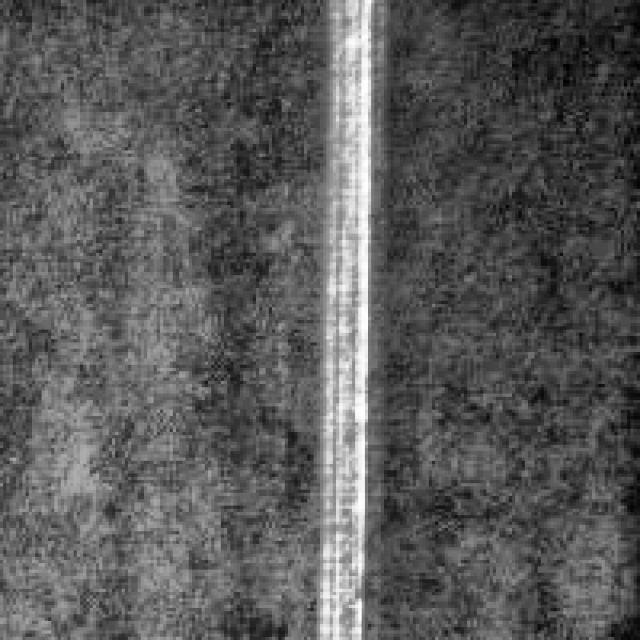Inclusion: (304, 0, 387, 634)
